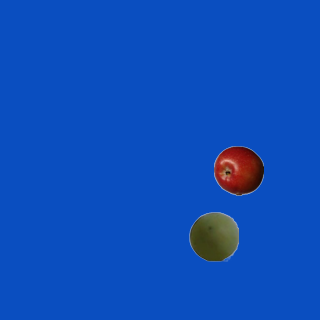Apple Braeburn: (213, 145, 263, 195)
Grape White 4: (188, 211, 238, 261)
